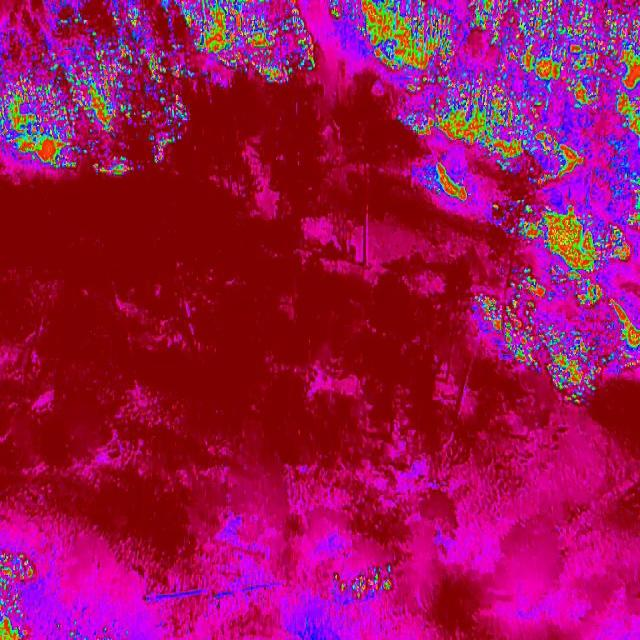fire: (0, 0, 198, 175), (465, 262, 640, 406), (329, 0, 640, 71), (396, 70, 640, 140), (429, 140, 640, 210), (198, 0, 316, 91), (503, 209, 640, 262), (0, 546, 39, 640), (322, 562, 402, 607)
